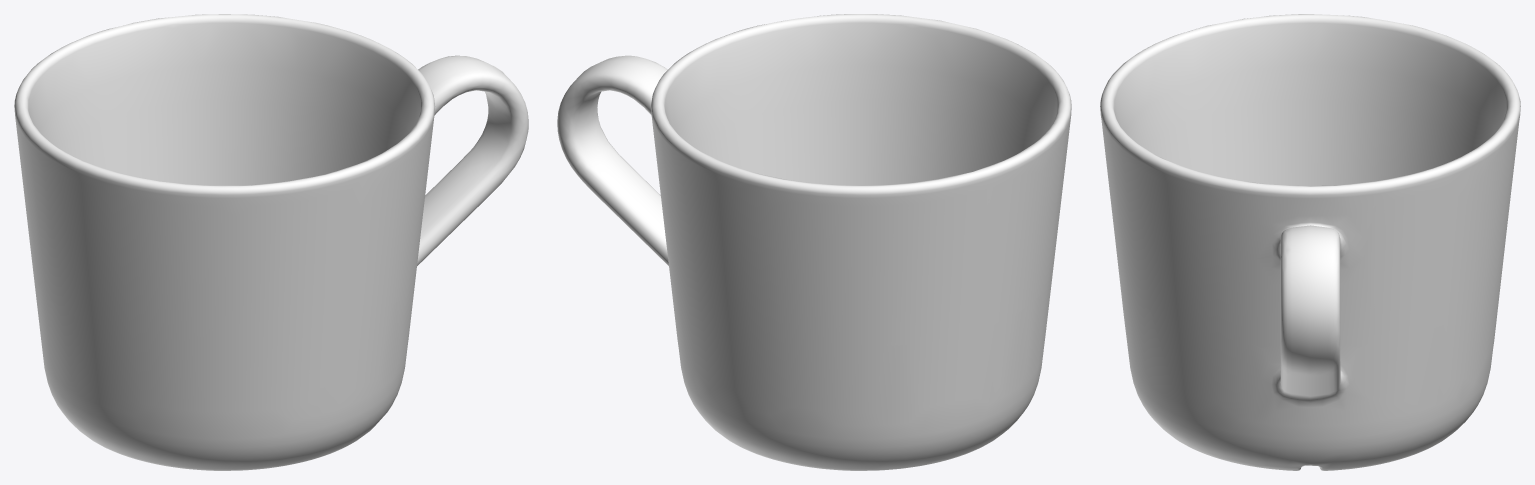
Rendered from ikea_365_kubek_10279723.glb.
The picture shows the model from 3 angles, left to right: view 1: azimuth 30°, elevation 25°; view 2: azimuth 150°, elevation 25°; view 3: azimuth 270°, elevation 25°; orthographic projection.
Parts seen in each view (by area): view 1: ikea_365_kubek_10279723; view 2: ikea_365_kubek_10279723; view 3: ikea_365_kubek_10279723.
Boxes of the visible parts, left/top/right/bottom form: ikea_365_kubek_10279723: left=14, top=14, right=528, bottom=470; ikea_365_kubek_10279723: left=557, top=14, right=1071, bottom=470; ikea_365_kubek_10279723: left=1100, top=14, right=1520, bottom=470.
Size of the model in its own units: 0.1177 by 0.0717 by 0.0898.
Materials: 1 (1 with a texture image).
